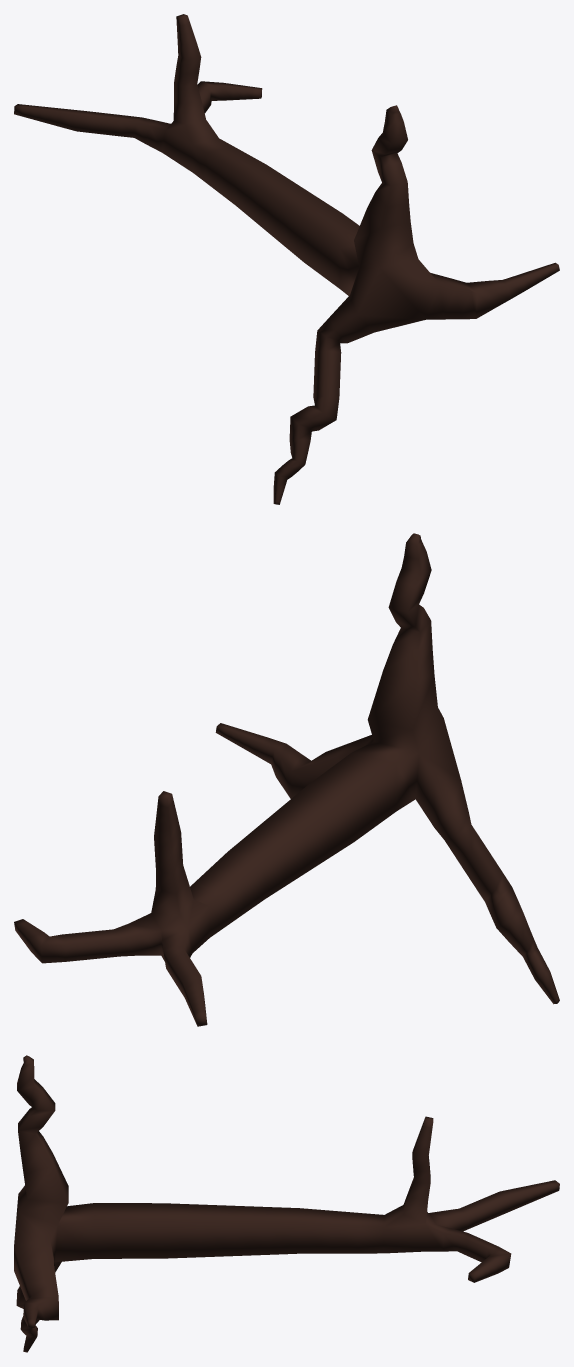
The model's file is Tree2_1_Fixed.fbx.
The picture shows the model from 3 angles, top to bottom: view 1: azimuth 30°, elevation 25°; view 2: azimuth 150°, elevation 25°; view 3: azimuth 270°, elevation 25°; orthographic projection. The views are drawn at different scales.
Visible parts, largest first — view 1: Tree1; view 2: Tree1; view 3: Tree1.
Boxes of the visible parts, x1,y1,x2,y2 form: Tree1: (14, 14, 559, 504); Tree1: (14, 533, 559, 1026); Tree1: (14, 1055, 559, 1352).
Bounding box in the file's own units: 782 × 965 × 1363.
